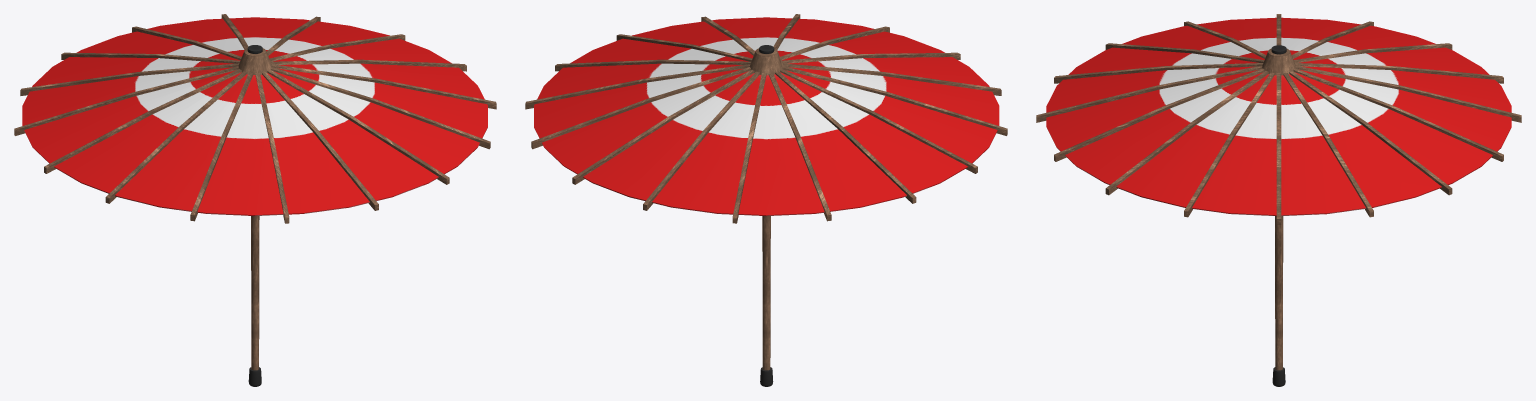
File: SM_umbrella_02.fbx
3 renders of one model, left to right at view 1: azimuth 30°, elevation 25°; view 2: azimuth 150°, elevation 25°; view 3: azimuth 270°, elevation 25°, orthographic.
Parts seen in each view (by area): view 1: SM_umbrella_02; view 2: SM_umbrella_02; view 3: SM_umbrella_02.
Boxes of the visible parts, box(x1,y1,x2,y2) form: SM_umbrella_02: box(14, 14, 496, 386); SM_umbrella_02: box(525, 14, 1007, 386); SM_umbrella_02: box(1036, 14, 1521, 386).
Bounding box in the file's own units: 174 × 174 × 133.
Materials: 1 (1 with a texture image).
